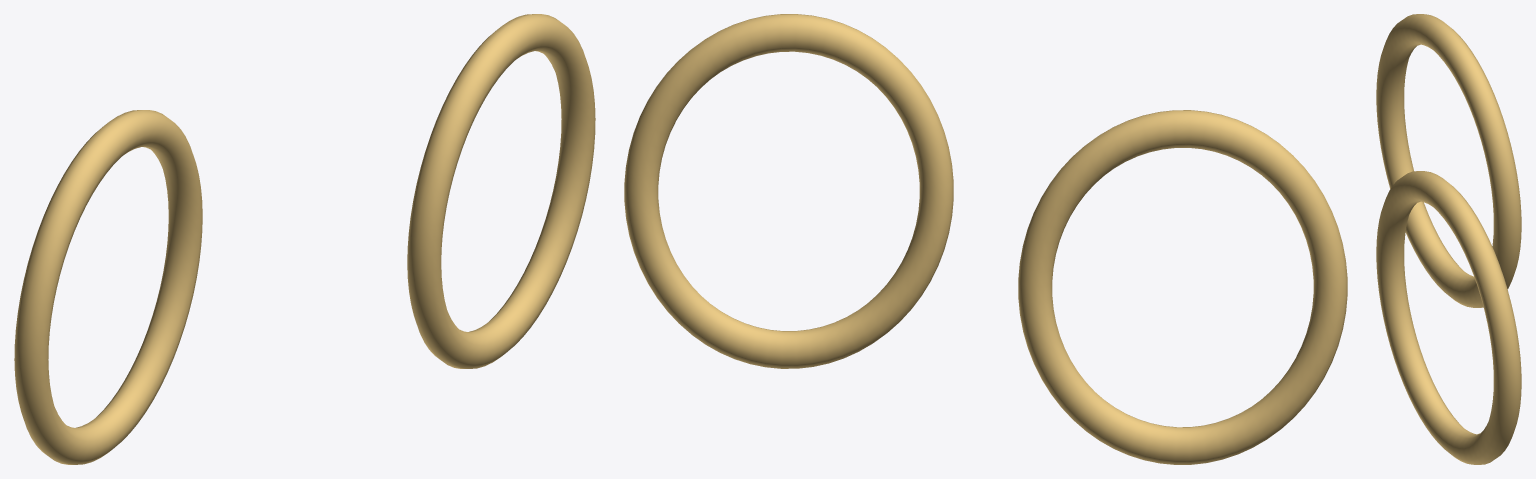
The picture shows the model from 3 angles, left to right: view 1: azimuth 30°, elevation 25°; view 2: azimuth 150°, elevation 25°; view 3: azimuth 270°, elevation 25°; orthographic projection. The views are drawn at different scales.
Bounding box in the file's own units: 1.97 × 0.9973 × 0.4697.
